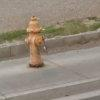Hydrant: (23, 9, 54, 79)
